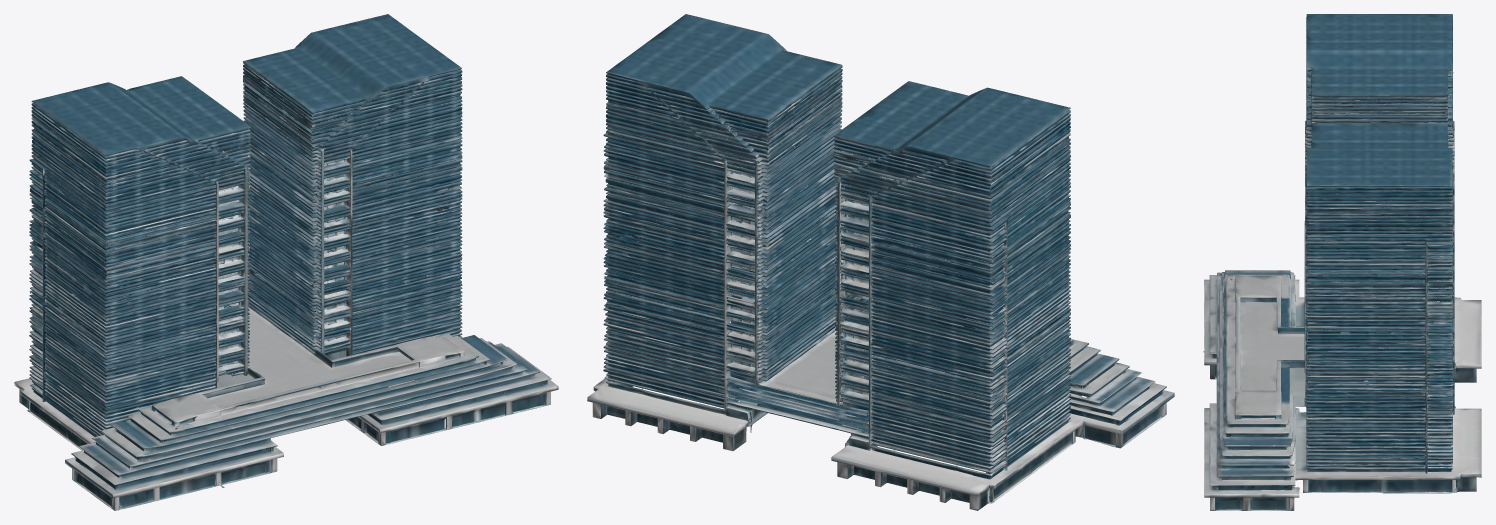
The model's file is twin-glass-towers-detail.glb.
The picture shows the model from 3 angles, left to right: view 1: azimuth 30°, elevation 25°; view 2: azimuth 150°, elevation 25°; view 3: azimuth 270°, elevation 25°; orthographic projection. The views are drawn at different scales.
Size of the model in its own units: 1.9 by 1.27 by 1.04.
Materials: 1 (1 with a texture image).
